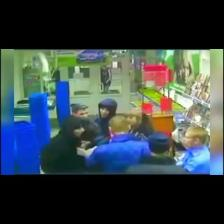person: (87, 116, 149, 173), (126, 133, 188, 174), (41, 117, 85, 173), (177, 127, 209, 174), (96, 98, 117, 144), (126, 108, 153, 140), (101, 66, 111, 93), (71, 104, 88, 117)
